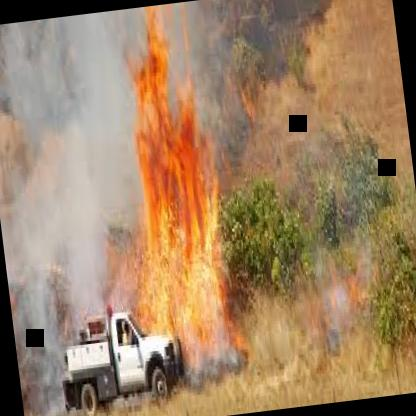fire: (124, 37, 230, 364)
